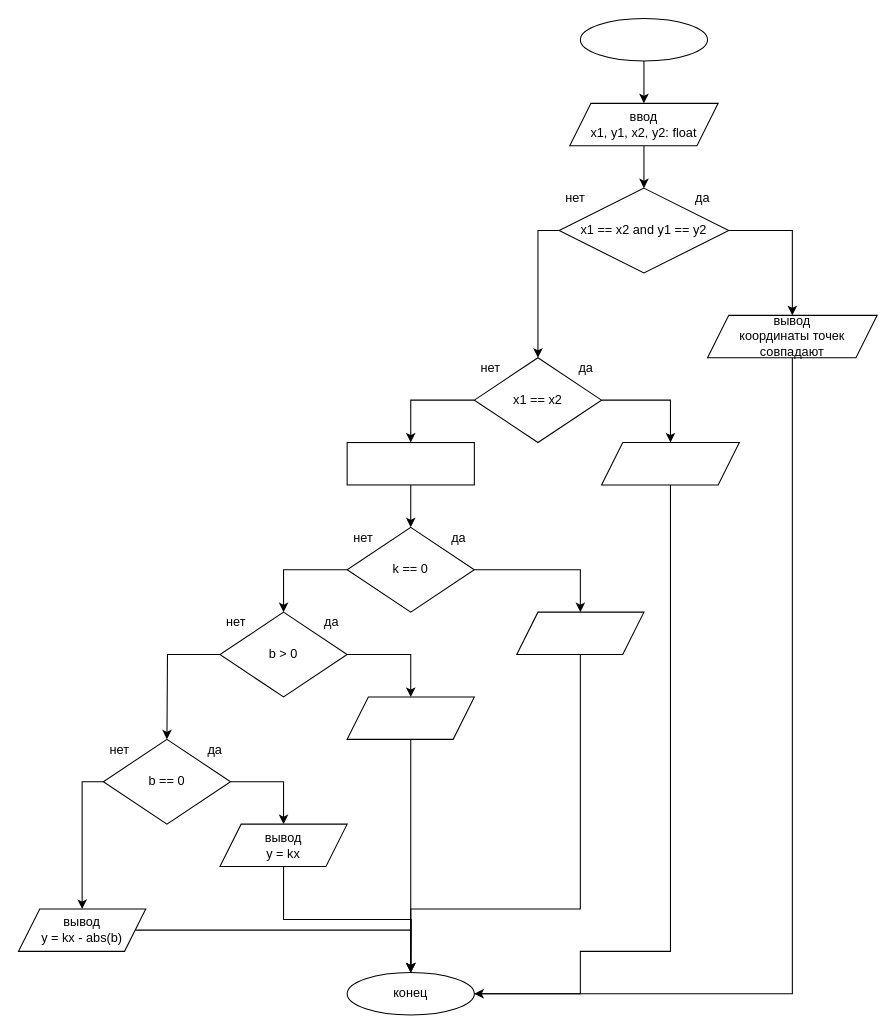
The diagram is 896 pixels wide and 1034 high, and some of its shapes have lost their labels. Each missing label, with the centre of its shape:
k = (y2 - y1)/(x2 - x1) b = y1 - k * x1: pixel 410 463
вывод x = x1: pixel 669 463
вывод y = b: pixel 580 633
вывод y = kx + b: pixel 410 717
начало: pixel 643 39
